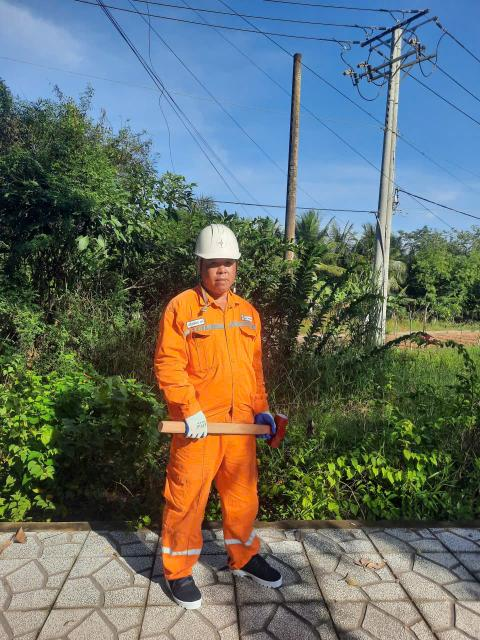gloves: (181, 403, 213, 441), (258, 413, 278, 445)
helmet: (188, 216, 252, 266)
shoes: (222, 543, 290, 594), (151, 566, 213, 617)
